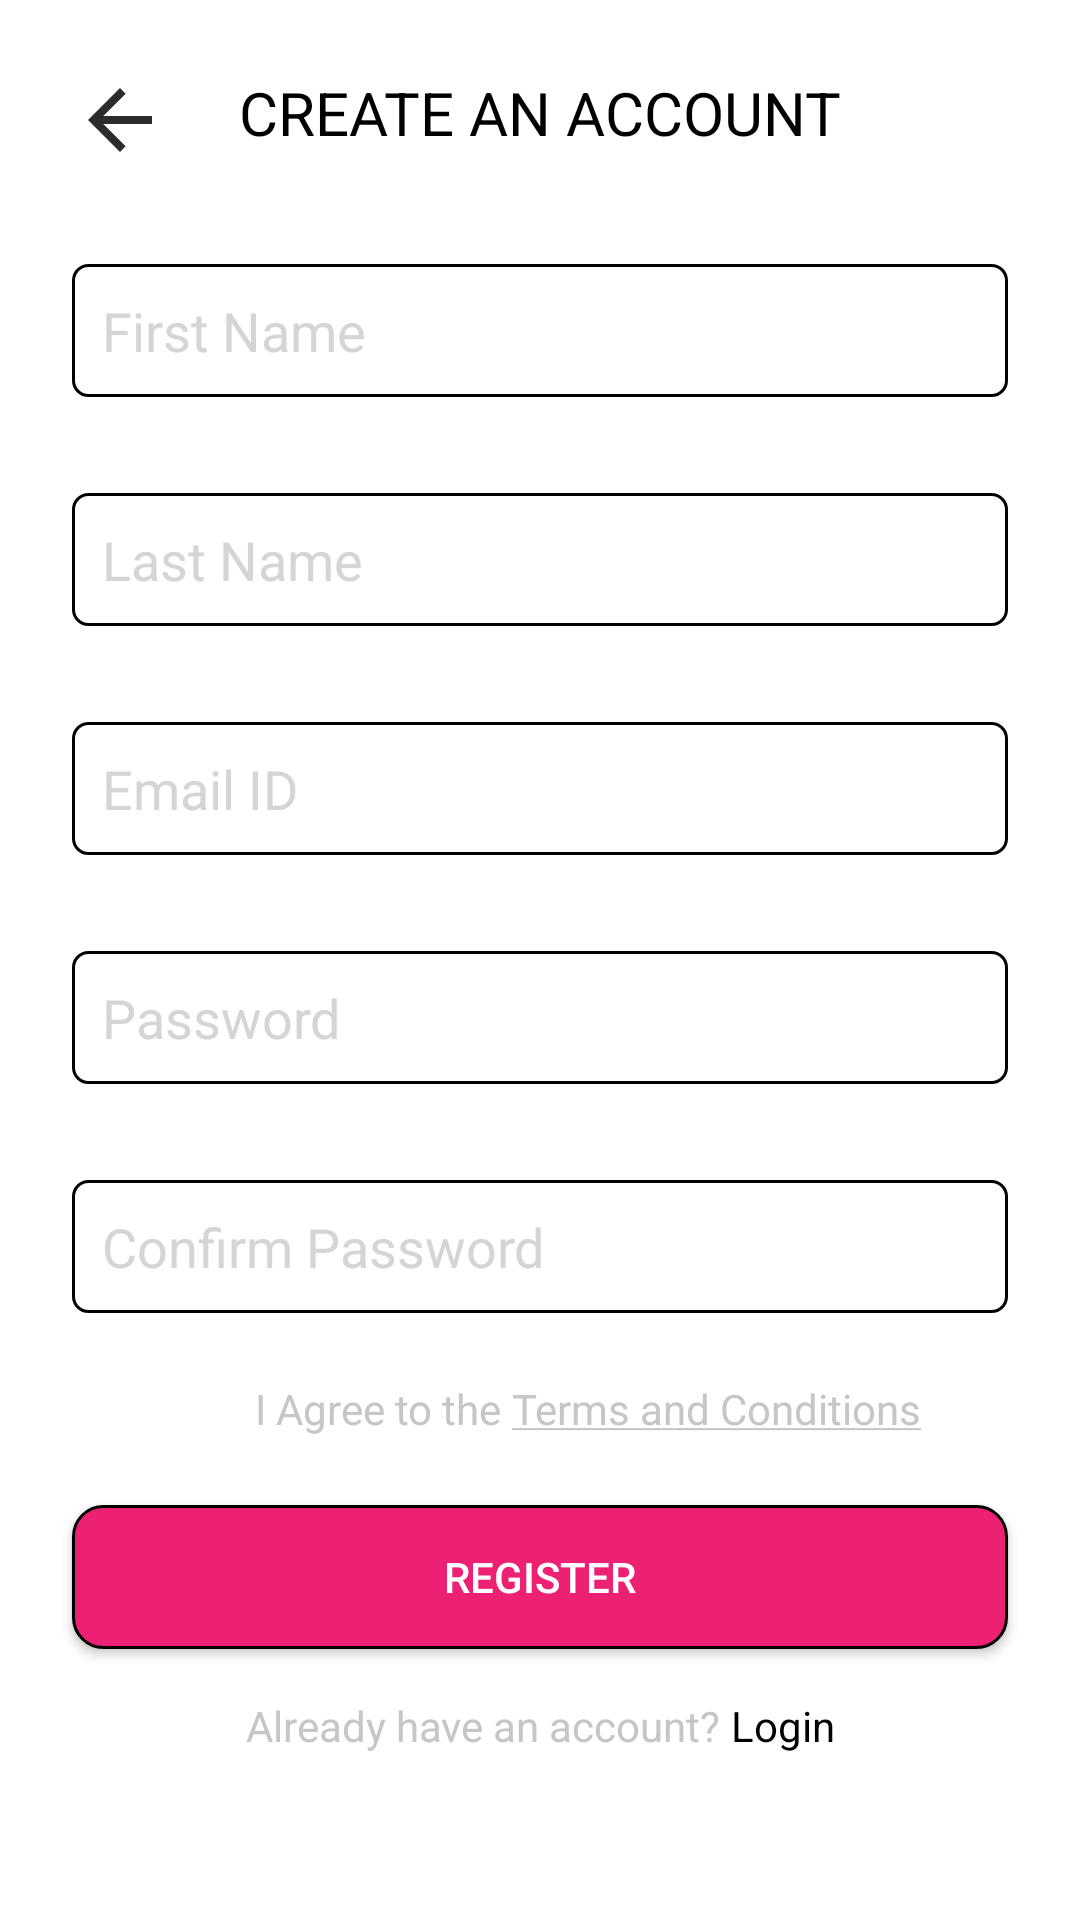

Icons on this 1080*1920 Android screen, each with the point to tap as (x=x, y=y):
back: (x=120, y=120)
